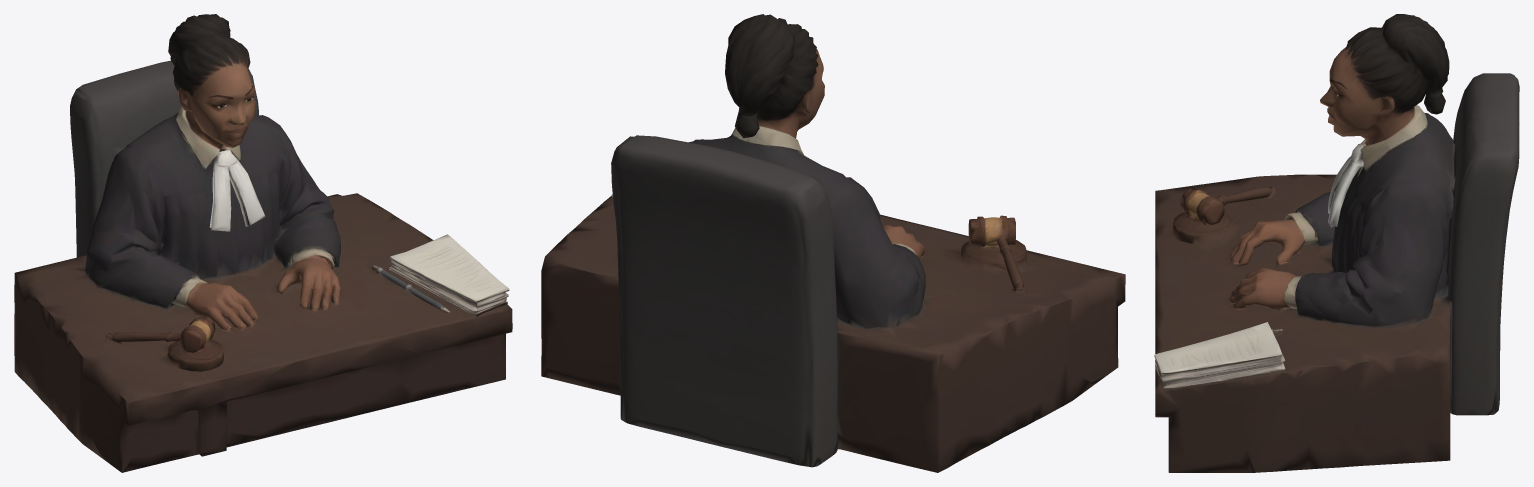
Rendered from judge_5.glb.
The picture shows the model from 3 angles, left to right: view 1: azimuth 30°, elevation 25°; view 2: azimuth 150°, elevation 25°; view 3: azimuth 270°, elevation 25°; orthographic projection. The views are drawn at different scales.
Visible parts, largest first — view 1: tripo_node_dd98b569-9863-4fc5-85d1-8980ffd9a24c; view 2: tripo_node_dd98b569-9863-4fc5-85d1-8980ffd9a24c; view 3: tripo_node_dd98b569-9863-4fc5-85d1-8980ffd9a24c.
Part boxes in pixels (box(x1,y1,x2,y2)): tripo_node_dd98b569-9863-4fc5-85d1-8980ffd9a24c: box(14, 14, 512, 472); tripo_node_dd98b569-9863-4fc5-85d1-8980ffd9a24c: box(541, 14, 1125, 472); tripo_node_dd98b569-9863-4fc5-85d1-8980ffd9a24c: box(1154, 14, 1519, 472).
Bounding box in the file's own units: 1 × 0.8208 × 0.7645.
Materials: 1 (1 with a texture image).
